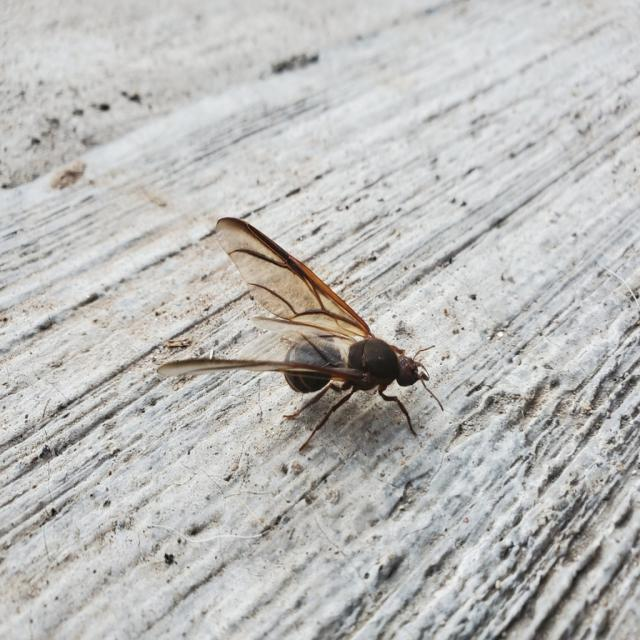Alive-Female-Alate: (156, 216, 445, 452)
